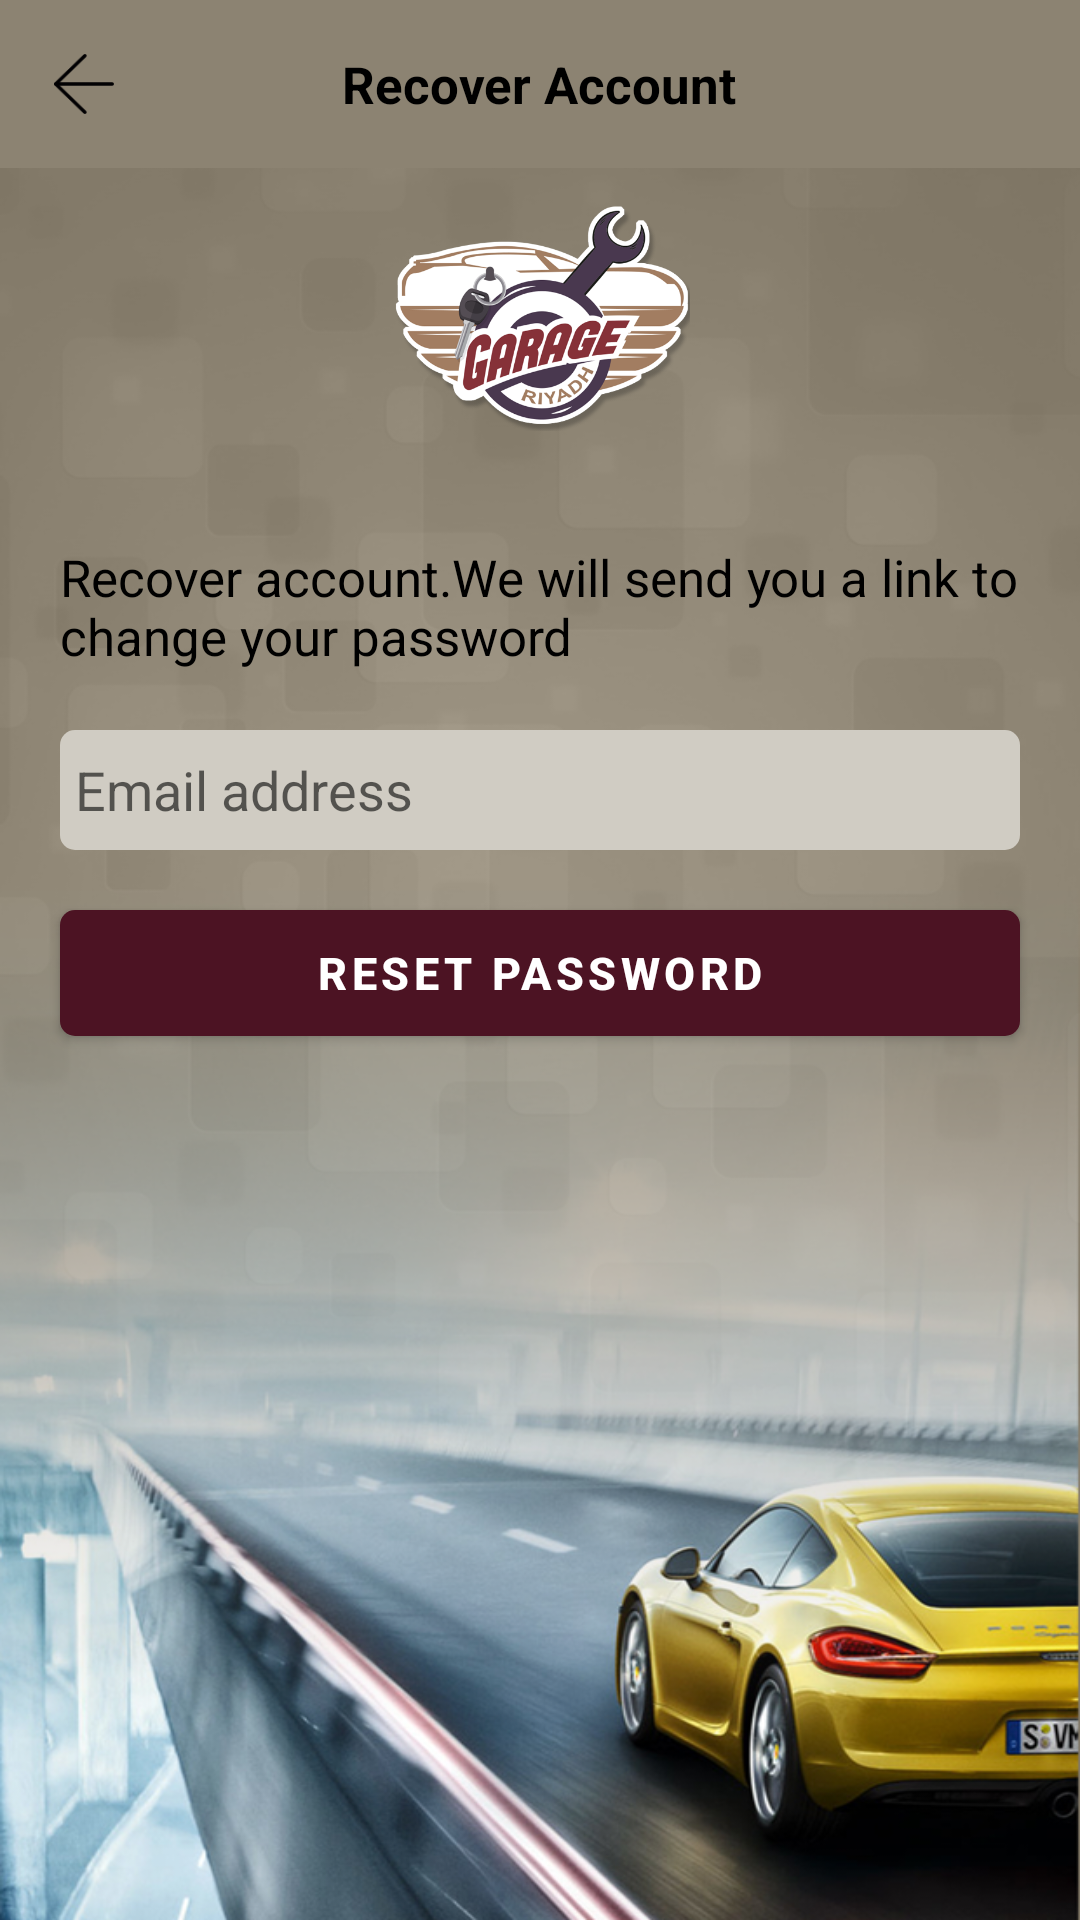

Screen size 1080 x 1920. Icon name, then its box in pixels as (x1, y1, x2, y2):
back arrow: (54, 54, 114, 114)
